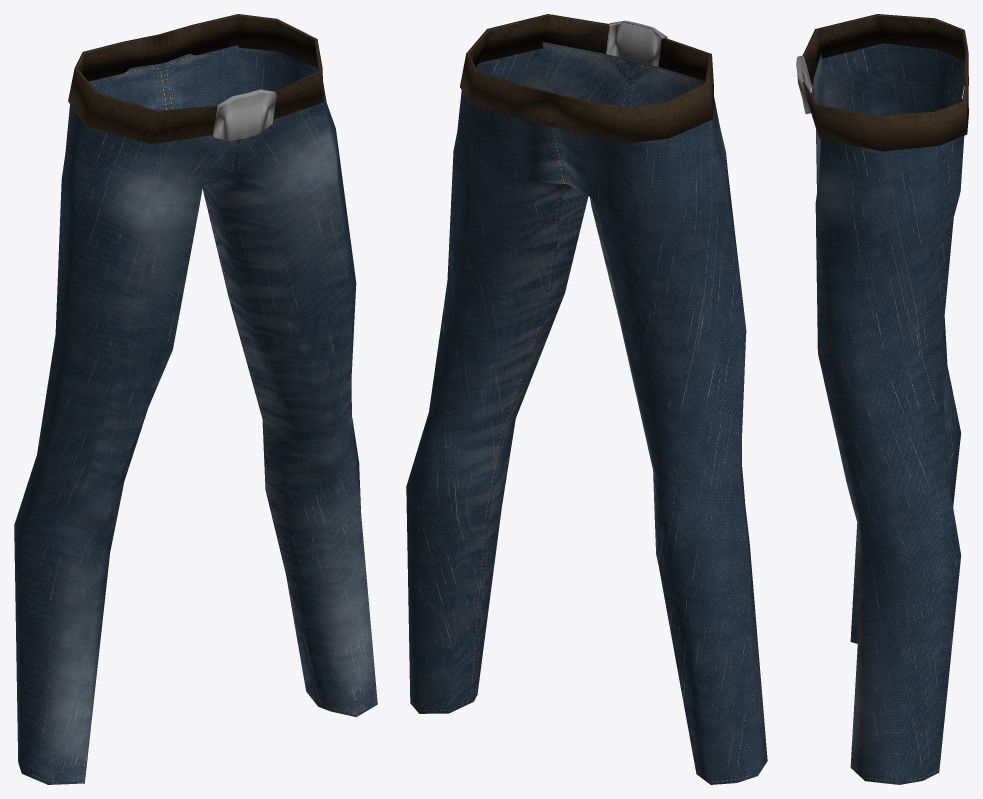
The model's file is MalePant.fbx.
3 views of the same model, side by side, from view 1: azimuth 30°, elevation 25°; view 2: azimuth 150°, elevation 25°; view 3: azimuth 270°, elevation 25° (orthographic). The views are drawn at different scales.
Parts seen in each view (by area): view 1: pant; view 2: pant; view 3: pant.
Boxes of the visible parts, x1,y1,x2,y2 form: pant: (14,14,377,784); pant: (406,14,767,784); pant: (796,14,968,784).
Bounding box in the file's own units: 4.76 × 8.89 × 2.17.
